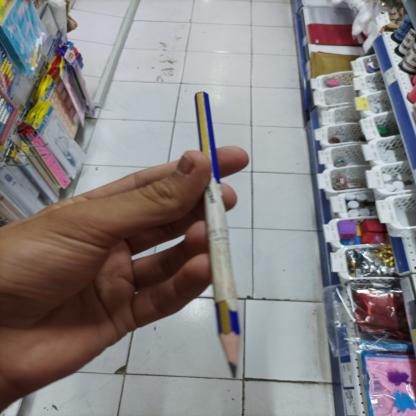pencil: (192, 88, 245, 386)
